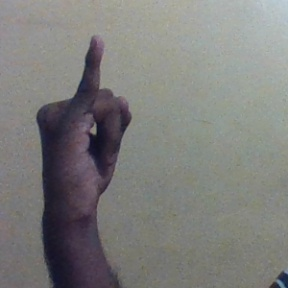I: (39, 32, 133, 202)
